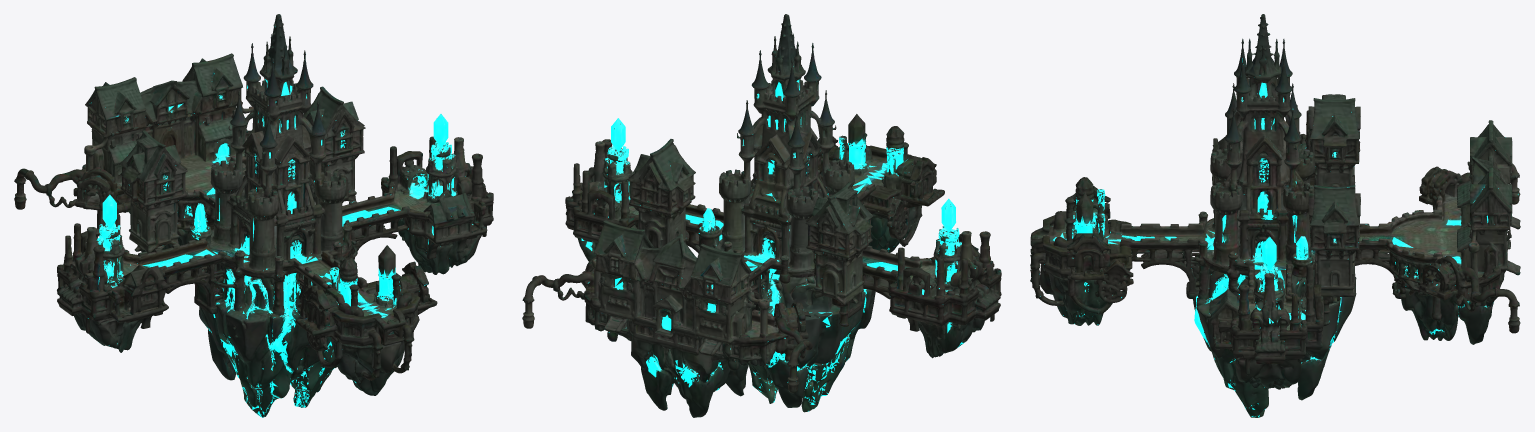
File: floating-castle-v6.glb
3 views of the same model, side by side, from view 1: azimuth 30°, elevation 25°; view 2: azimuth 150°, elevation 25°; view 3: azimuth 270°, elevation 25° (orthographic).
Parts seen in each view (by area): view 1: Mesh_0; view 2: Mesh_0; view 3: Mesh_0.
Boxes of the visible parts, x1=… form: Mesh_0: x1=14, y1=14, x2=493, y2=417; Mesh_0: x1=522, y1=14, x2=1001, y2=417; Mesh_0: x1=1030, y1=14, x2=1520, y2=417.
Bounding box in the file's own units: 1.89 × 1.68 × 1.9.
Materials: 2 (2 with a texture image).
